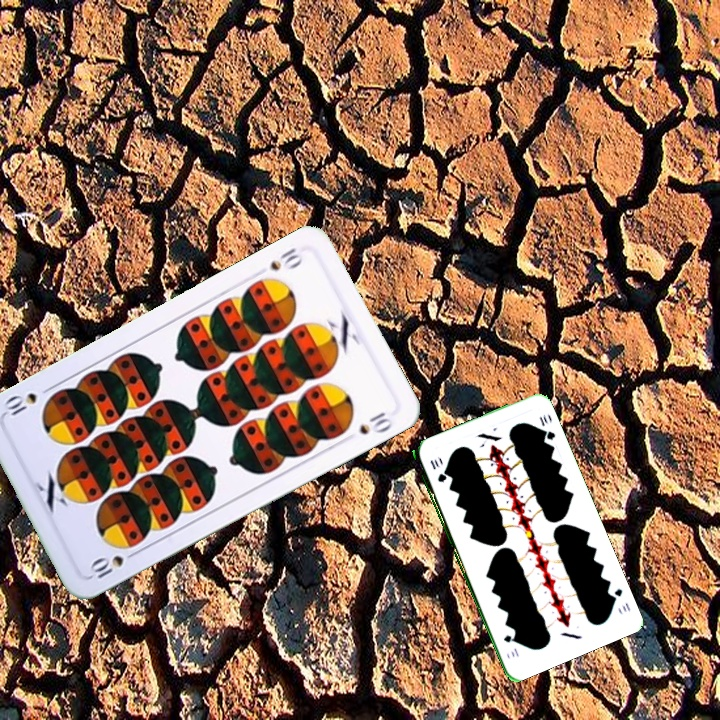G10: (606, 584, 633, 614), (426, 456, 448, 485)
S10: (85, 546, 141, 581), (266, 243, 305, 274)
